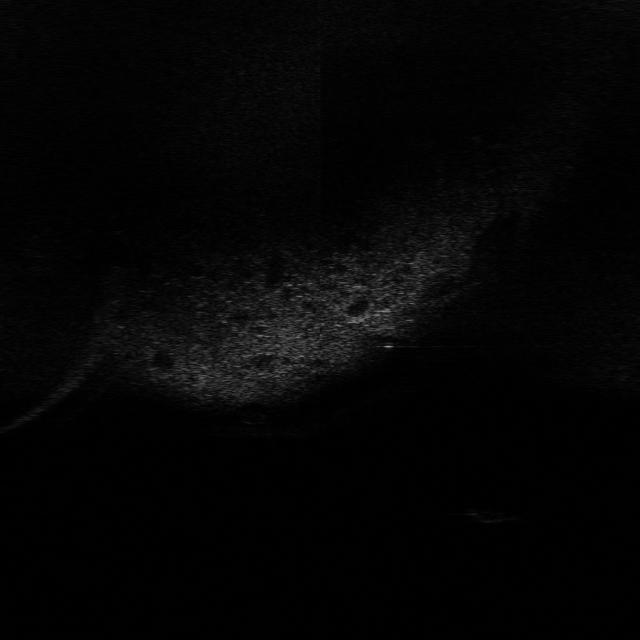cube: (457, 502, 524, 528)
